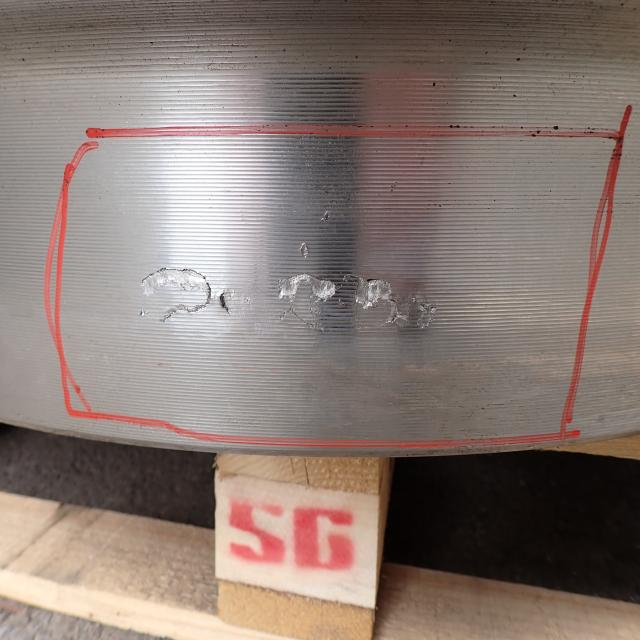Blue hole: (217, 292, 232, 313), (320, 208, 335, 226), (302, 244, 311, 260)
Contact_Fatigue_Cracks: (392, 294, 442, 329), (275, 309, 333, 336)
Peeling: (140, 266, 212, 321), (278, 270, 337, 306), (353, 273, 394, 309)
